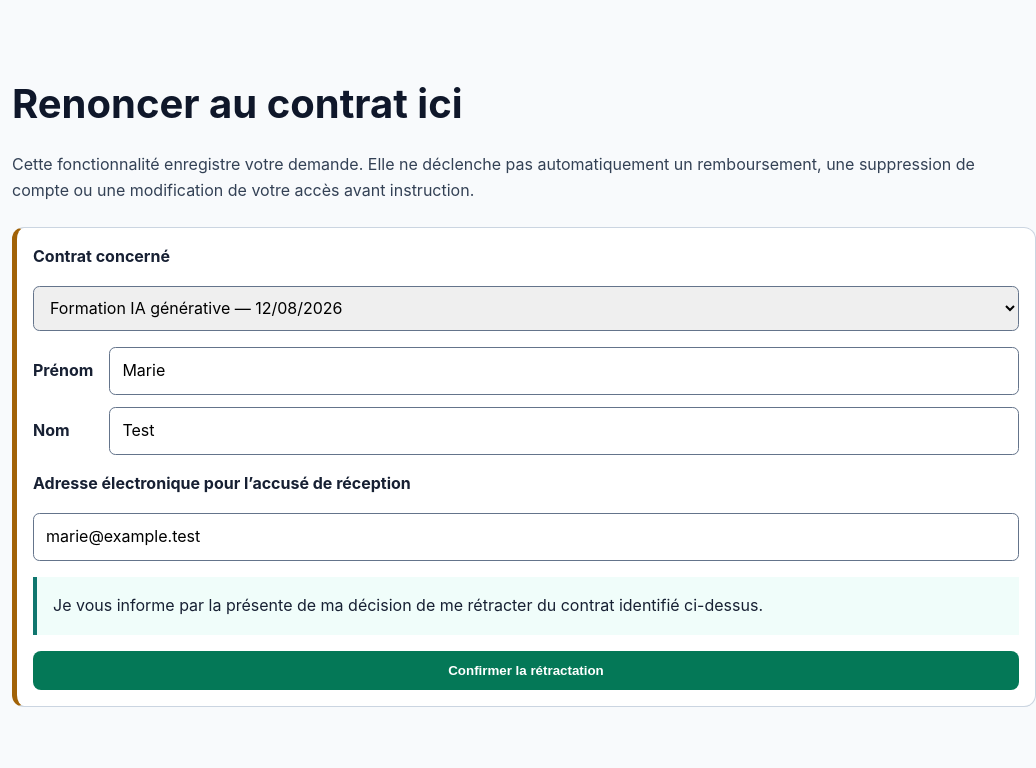
rétractation électronique › conserve l accusé téléchargeable lorsque l email échoue après enregistrement
Click the button "Confirmer la rétractation": {"x": 526, "y": 670} [33,651,1019,690]
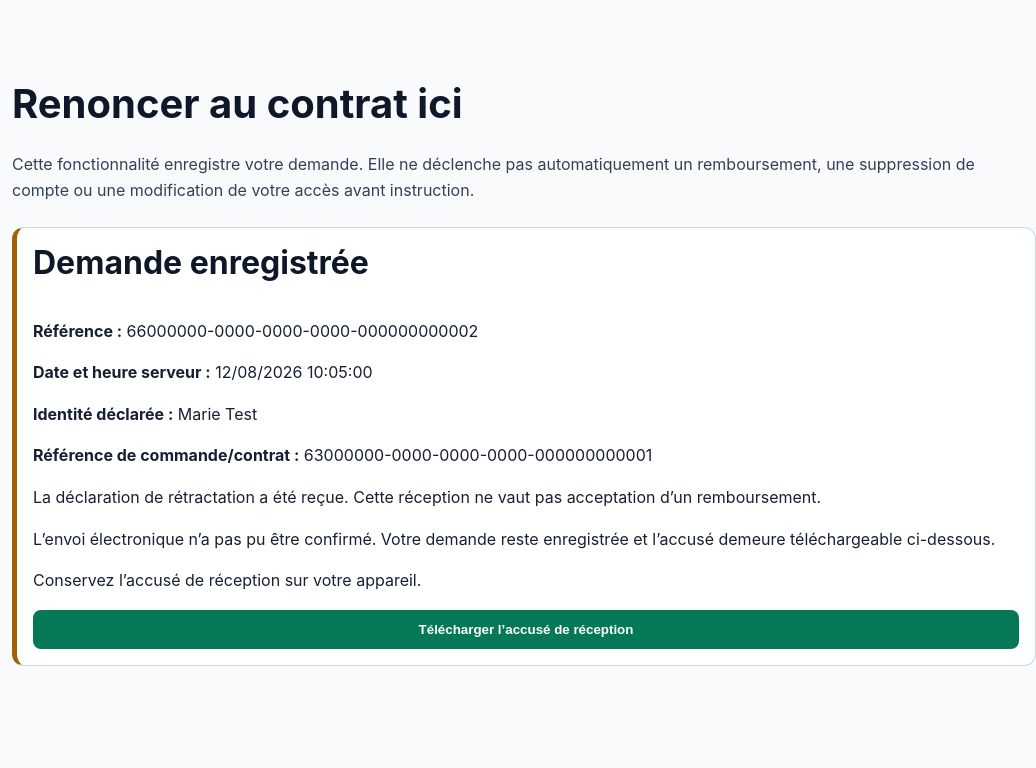
Check: the text "demande reste enregistrée" is shown, box [33,528,995,548]
Check: the button "Télécharger l’accusé de réception" is shown, box [33,610,1019,649]
